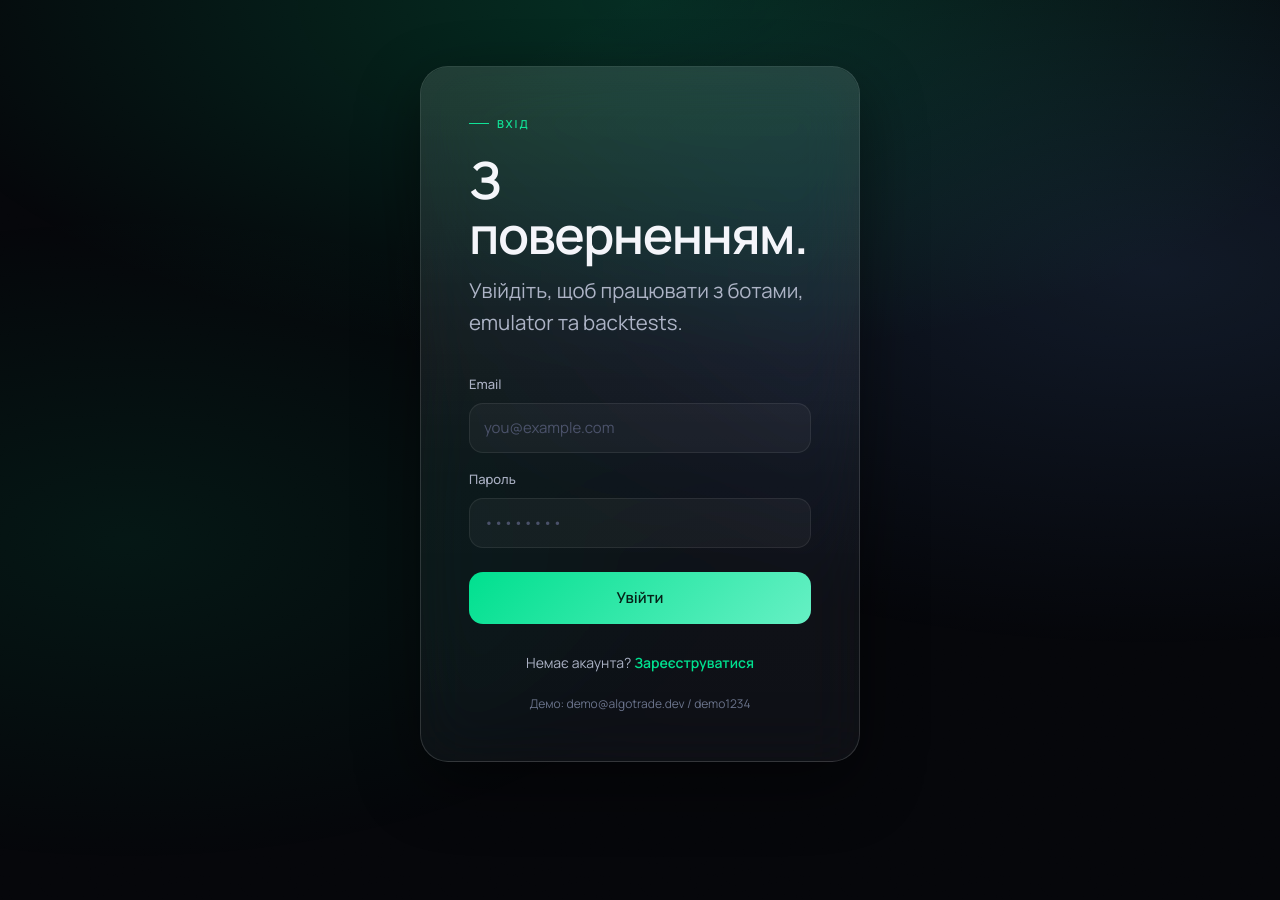
Test: pages/LoginPage › shows error message when login fails
The image size is (1280, 900).
In the field with placeholder "you@example.com": point(640, 428) [469,403,811,453], type "bad@test.com"
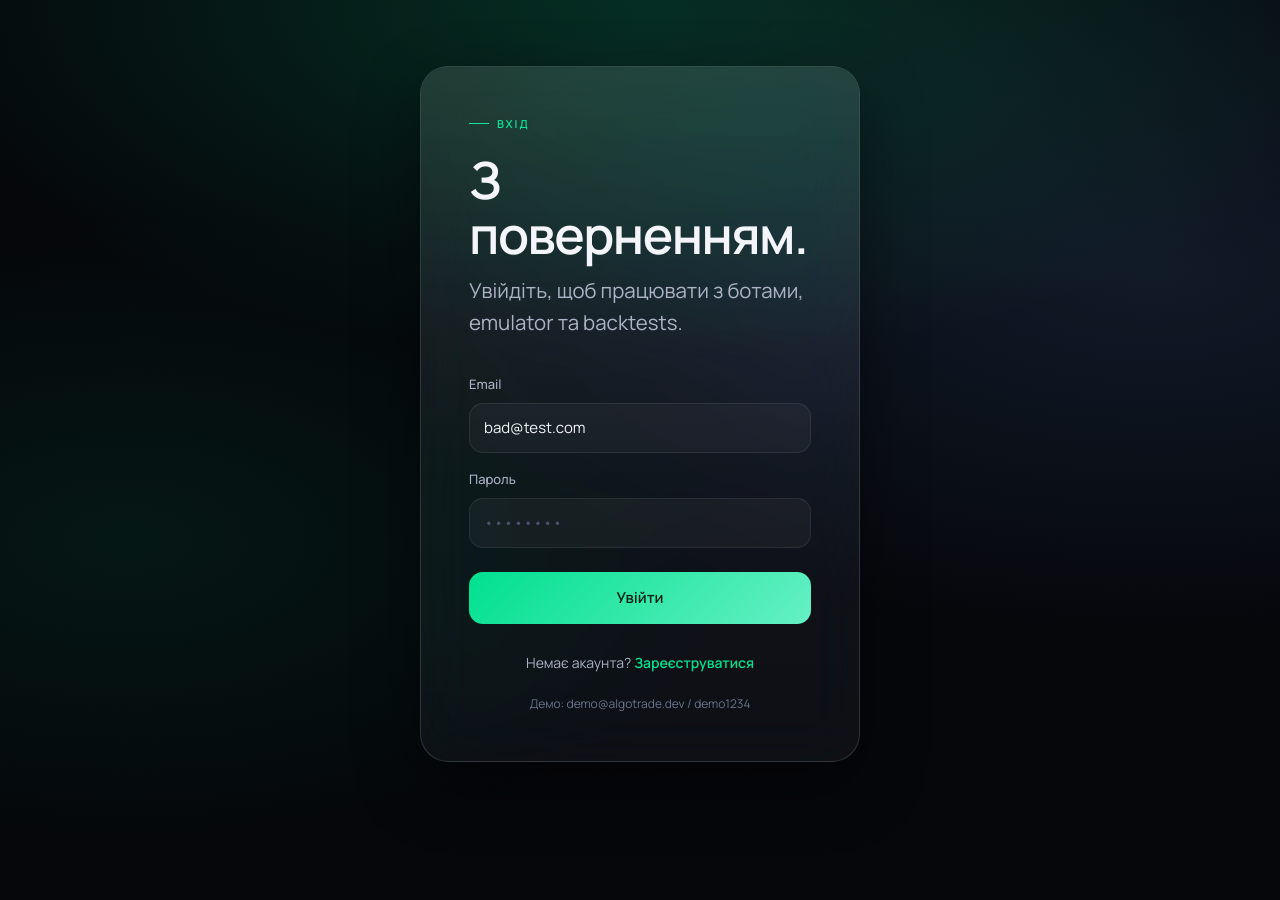
In the password field with placeholder "••••••••": point(640, 523) [469,498,811,548], type "wrong"
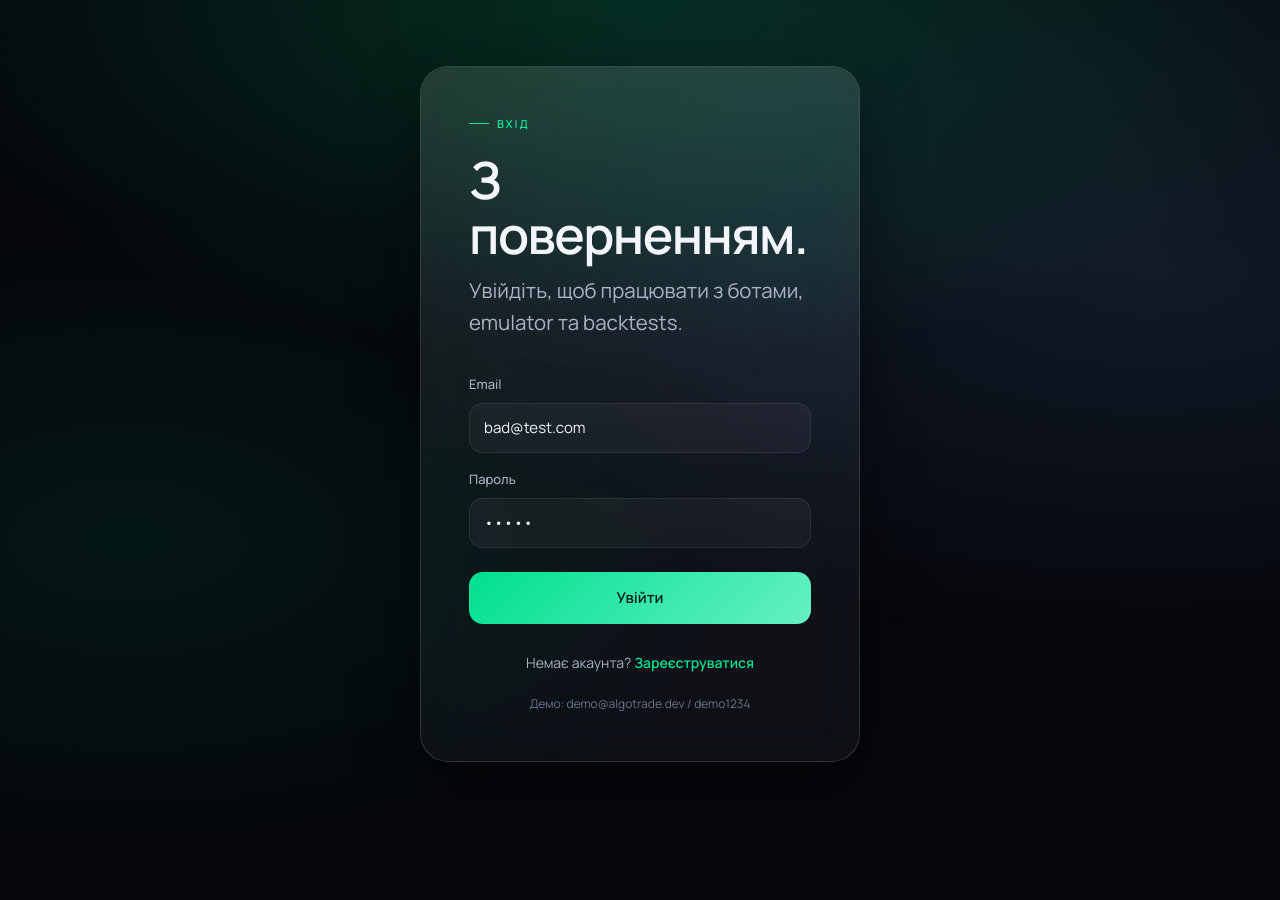
Click the button: point(640, 598) [469,572,811,624]
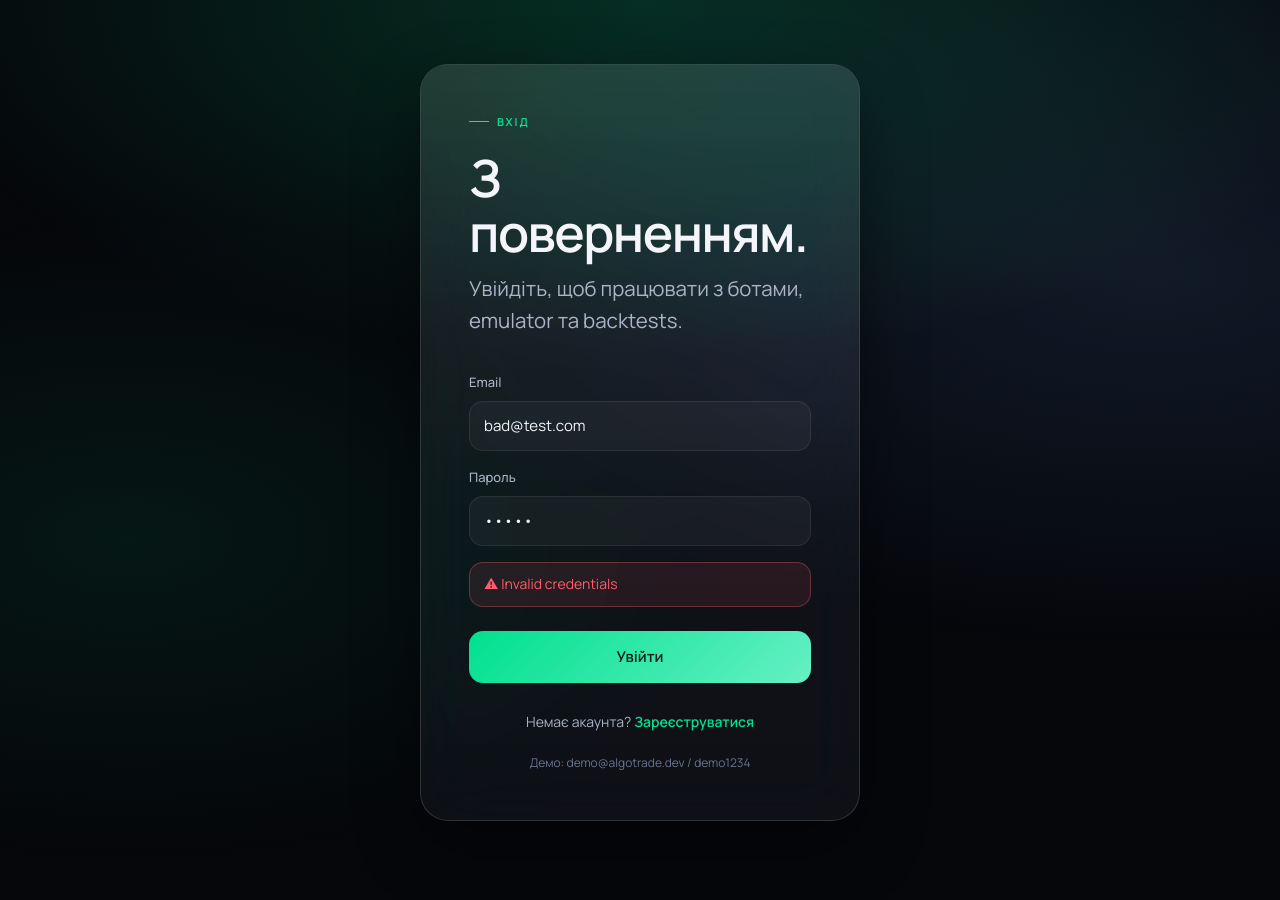
Expected: the message shows "Invalid credentials", [501,574,618,593]
